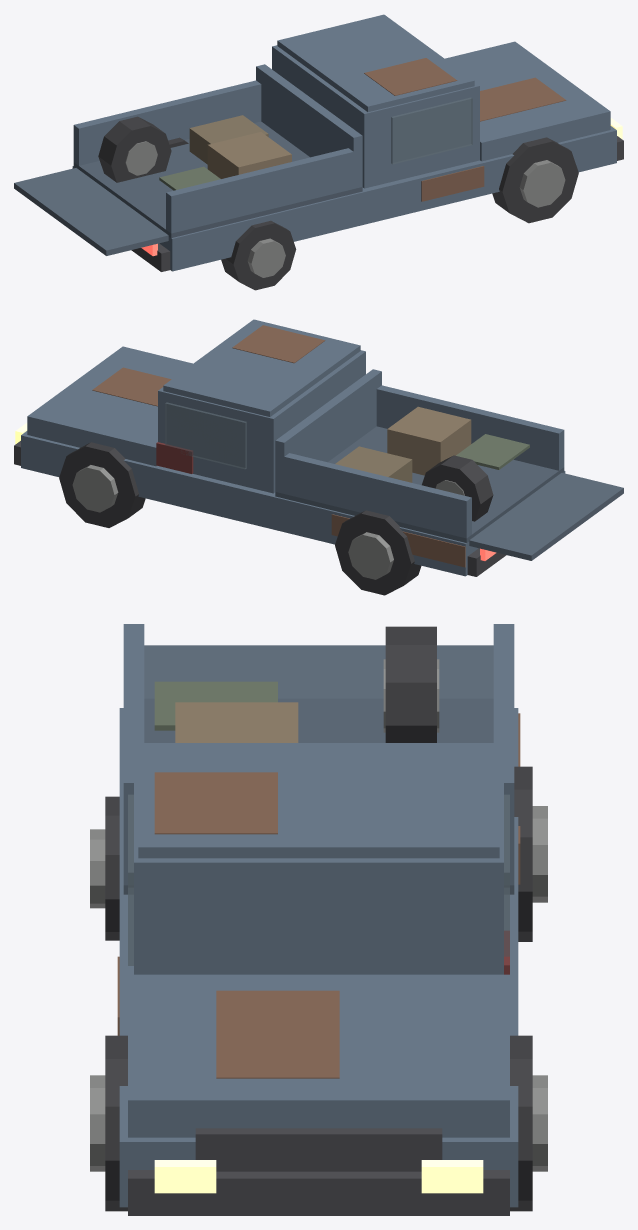
File: caminhonete.glb
3 views of the same model, one above another, from view 1: azimuth 30°, elevation 25°; view 2: azimuth 150°, elevation 25°; view 3: azimuth 270°, elevation 25° (orthographic). The views are drawn at different scales.
Parts seen in each view (by area): view 1: body, wheels, decor_grim, glass; view 2: body, wheels, decor_grim, glass; view 3: body, decor_grim, wheels, lights_amber, glass.
Boxes of the visible parts, box(x1,y1,x2,y2) form: body: box(14, 14, 623, 271); wheels: box(168, 137, 578, 290); decor_grim: box(159, 58, 566, 201); glass: box(391, 97, 472, 164); body: box(14, 319, 623, 576); wheels: box(59, 442, 421, 595); decor_grim: box(92, 325, 529, 567); glass: box(165, 402, 246, 469); body: box(119, 624, 518, 1215); decor_grim: box(117, 681, 520, 1078); wheels: box(90, 766, 547, 1211); lights_amber: box(154, 1160, 483, 1193); glass: box(128, 794, 509, 965).
Size of the model in its own units: 5.86 by 1.6 by 2.23.
